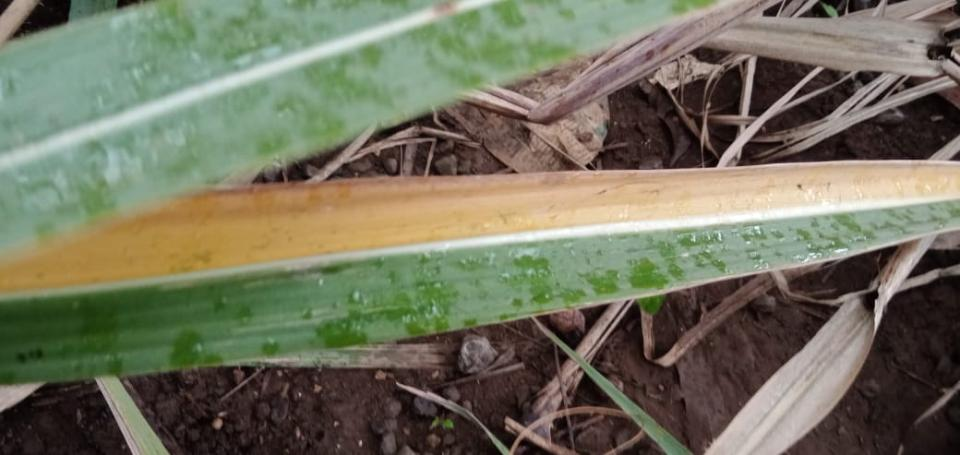Yellow: (1, 162, 959, 295)
